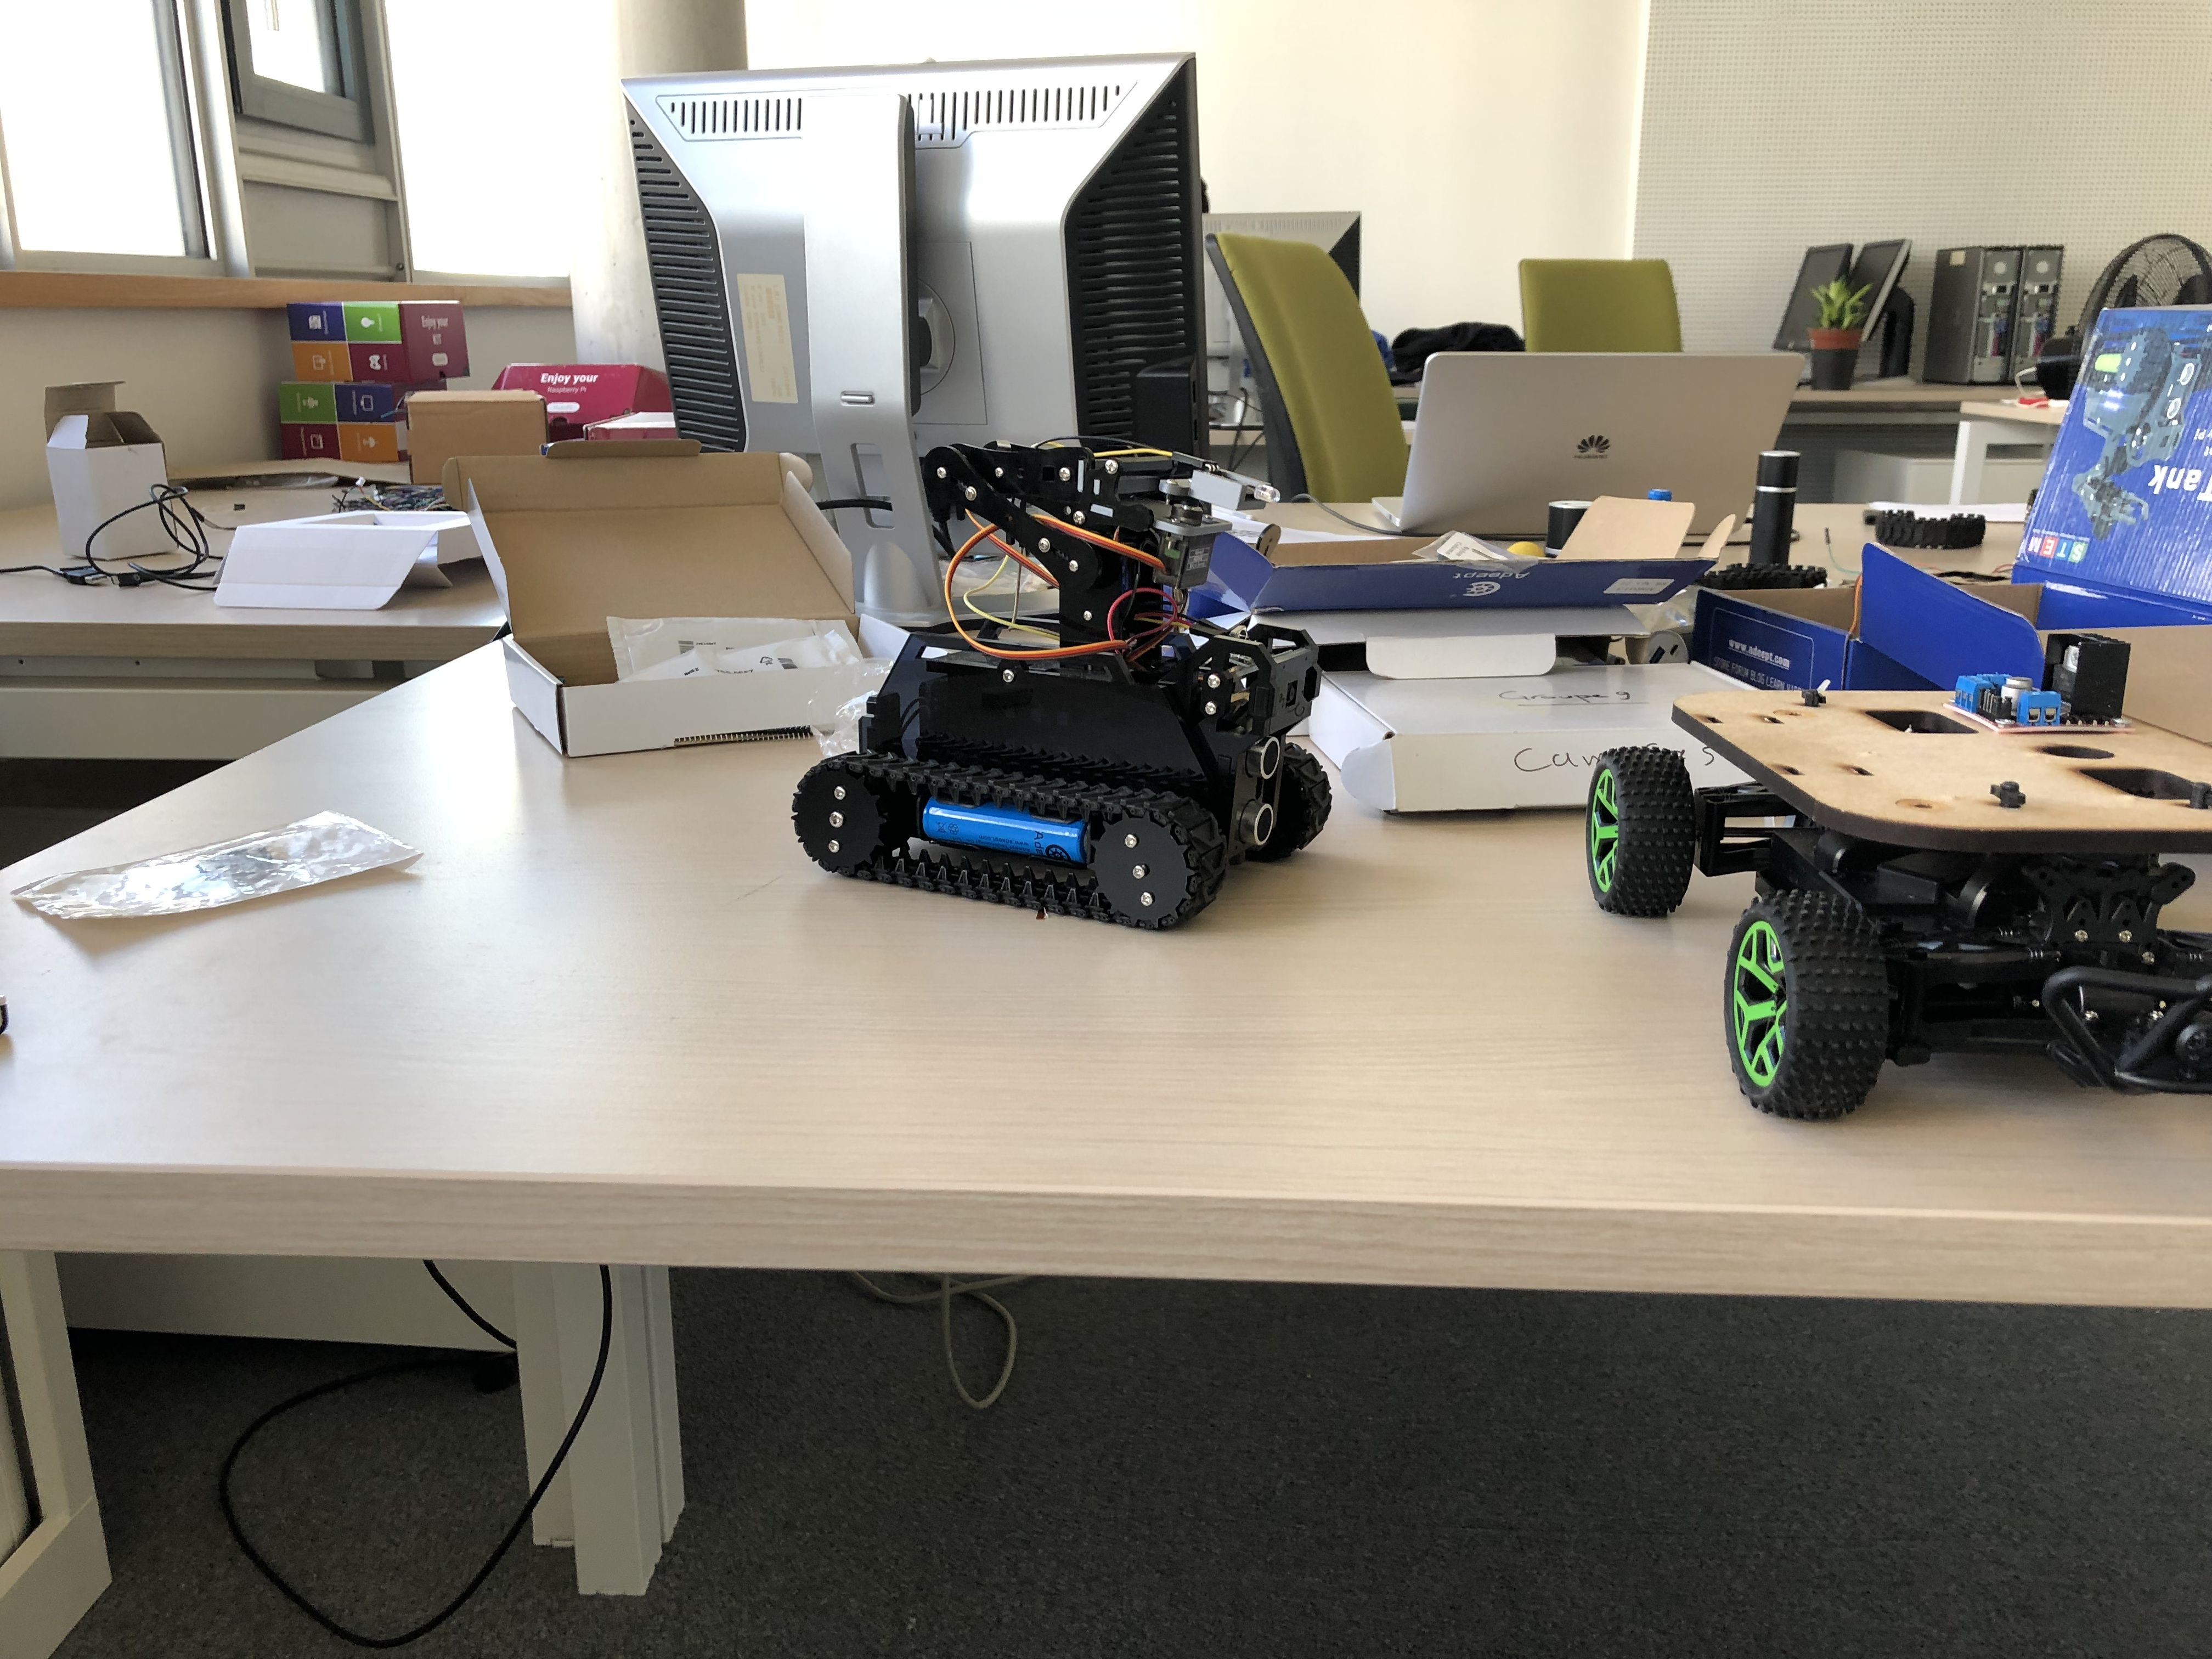rasptank: (787, 446, 1345, 936)
